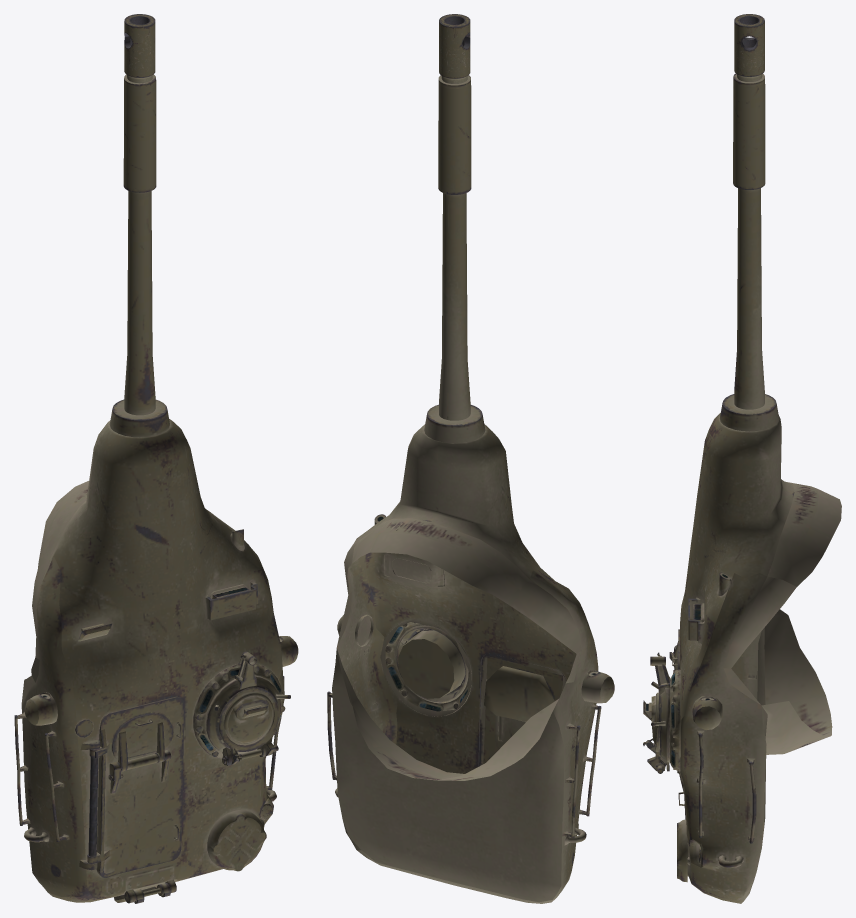
The model's file is Gun_01.glb.
3 renders of one model, left to right at view 1: azimuth 30°, elevation 25°; view 2: azimuth 150°, elevation 25°; view 3: azimuth 270°, elevation 25°, orthographic. The views are drawn at different scales.
Parts seen in each view (by area): view 1: set_0_group_0; view 2: set_0_group_0; view 3: set_0_group_0.
Boxes of the visible parts, x1,y1,x2,y2 form: set_0_group_0: [14, 14, 298, 903]; set_0_group_0: [327, 14, 614, 903]; set_0_group_0: [643, 14, 841, 903].
Size of the model in its own units: 2.56 by 7.89 by 1.67.
1 material, 1 textured.
